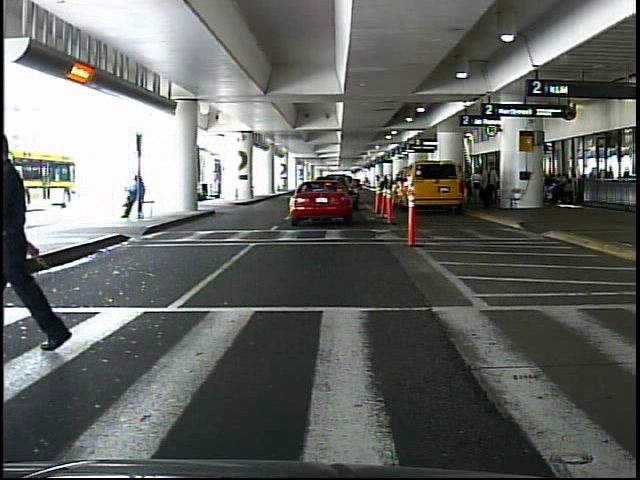person: (5, 126, 74, 347), (482, 163, 499, 209)
